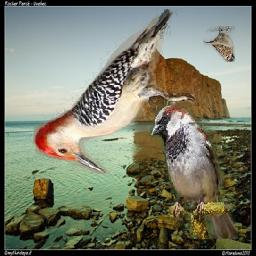Sparrow: (150, 103, 238, 239), (203, 26, 235, 62)
Woodpecker: (31, 10, 198, 175)
